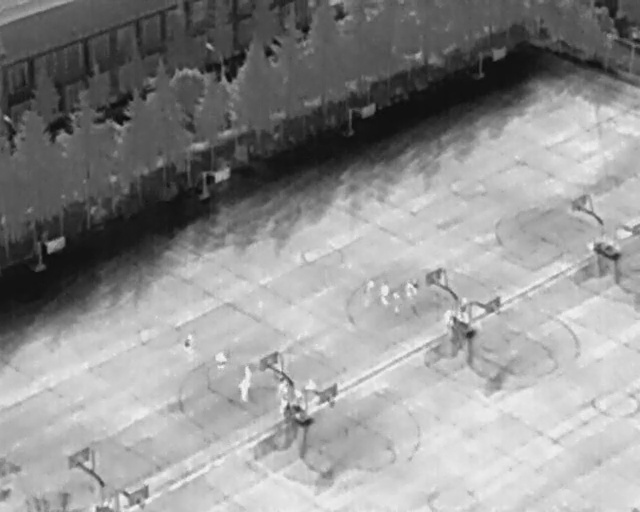Person: (460, 295, 470, 322), (215, 349, 226, 372), (305, 377, 317, 397), (380, 281, 389, 307), (239, 377, 248, 402), (184, 332, 193, 356), (278, 377, 288, 397), (366, 278, 374, 302), (411, 276, 420, 296), (393, 291, 401, 313), (243, 364, 252, 381), (405, 280, 411, 301)
